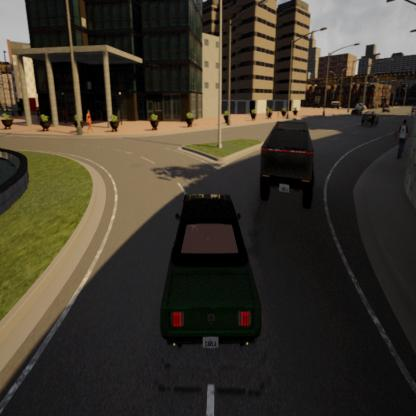Cars: (152, 170, 269, 374), (248, 99, 332, 225), (360, 102, 379, 130), (348, 96, 370, 120)
Pedestrian: (385, 105, 413, 167), (81, 101, 96, 139)
